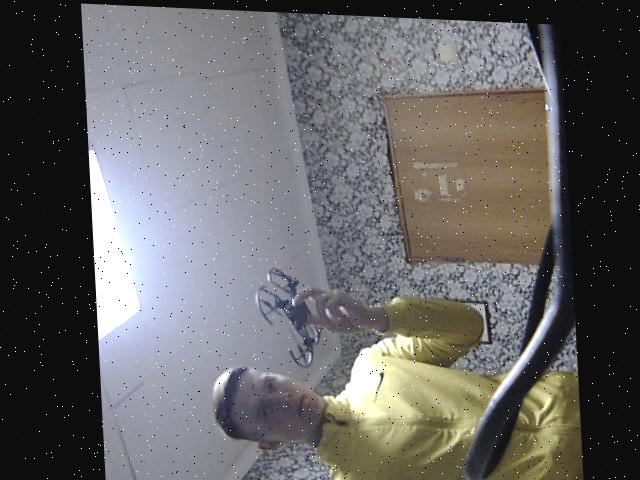drone: (237, 259, 328, 374)
